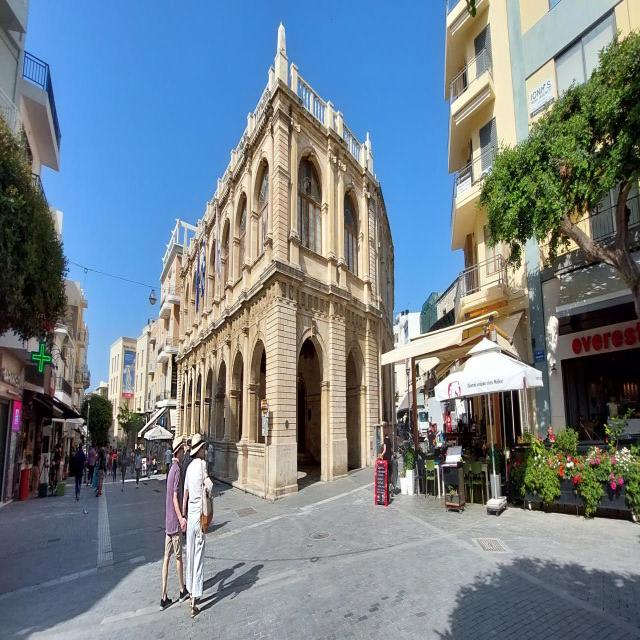Loggia: (177, 9, 413, 495)
